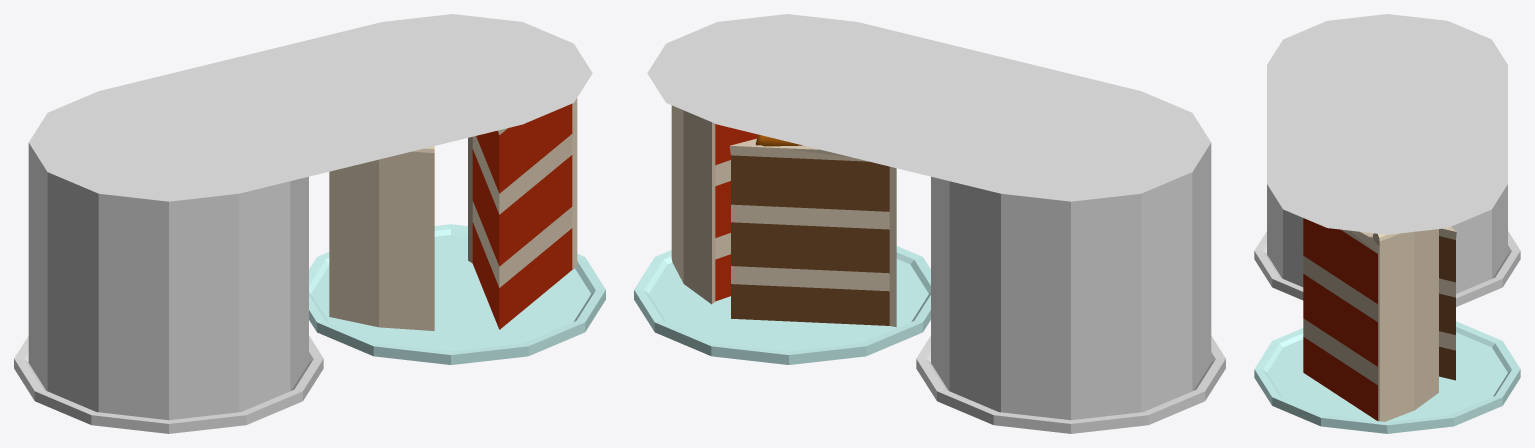
Rendered from Torciki.fbx.
3 renders of one model, left to right at view 1: azimuth 30°, elevation 25°; view 2: azimuth 150°, elevation 25°; view 3: azimuth 270°, elevation 25°, orthographic. The views are drawn at different scales.
Parts seen in each view (by area): view 1: wyznacznik, Talerz.001; view 2: wyznacznik, Talerz.001; view 3: wyznacznik, Talerz.001.
Part boxes in pixels (box(x1,y1,x2,y2)): wyznacznik: box(14, 14, 592, 433); Talerz.001: box(309, 98, 605, 364); wyznacznik: box(647, 14, 1225, 433); Talerz.001: box(634, 105, 930, 364); wyznacznik: box(1254, 14, 1520, 306); Talerz.001: box(1254, 218, 1520, 433).
Size of the model in its own units: 511 by 200 by 249.
